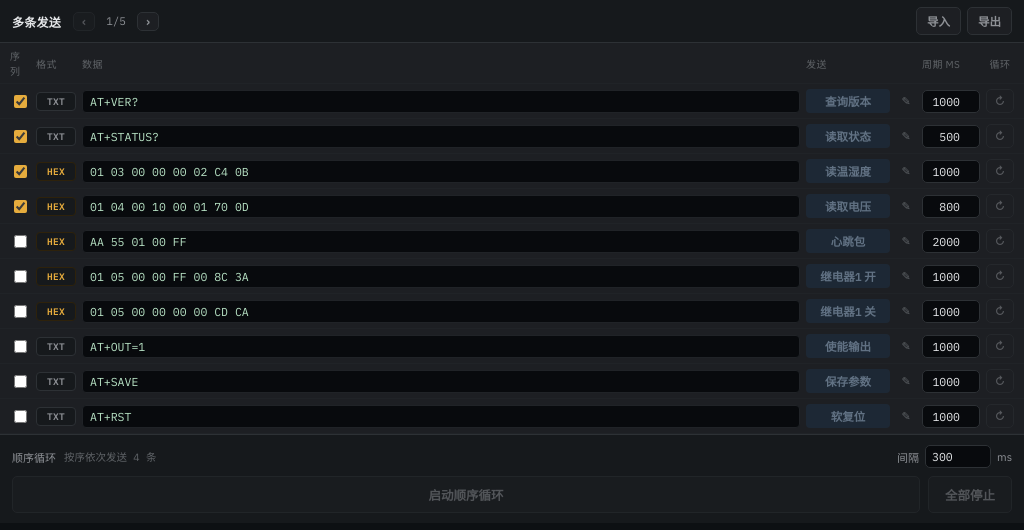
Test case: 多条发送 › 翻页只换这一页的 10 条，总数不变
Expected: the button "查询版本" is shown, top-left (806, 89), bottom-right (890, 113)
Click the button named "下一页": click(148, 21) top-left (137, 12), bottom-right (159, 30)
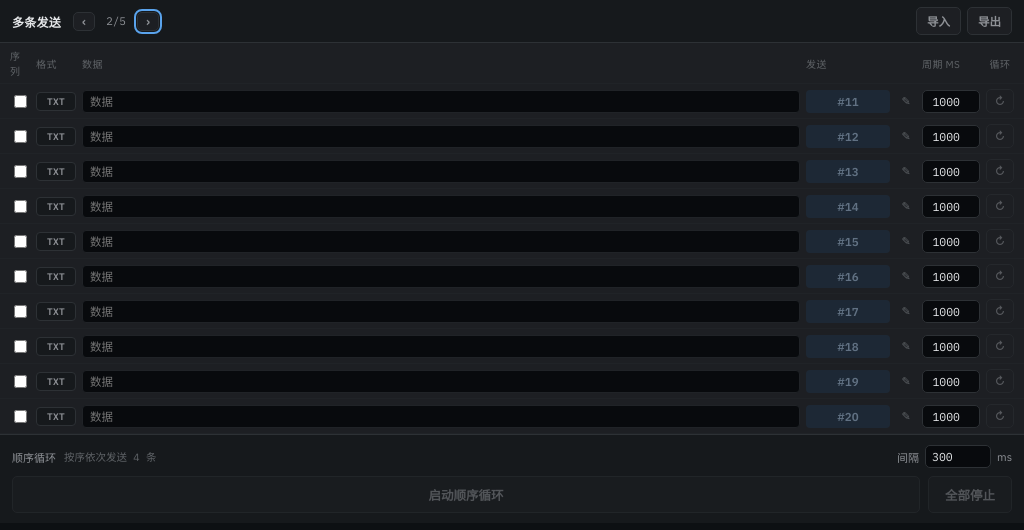
Expected: the button "查询版本" is gone
